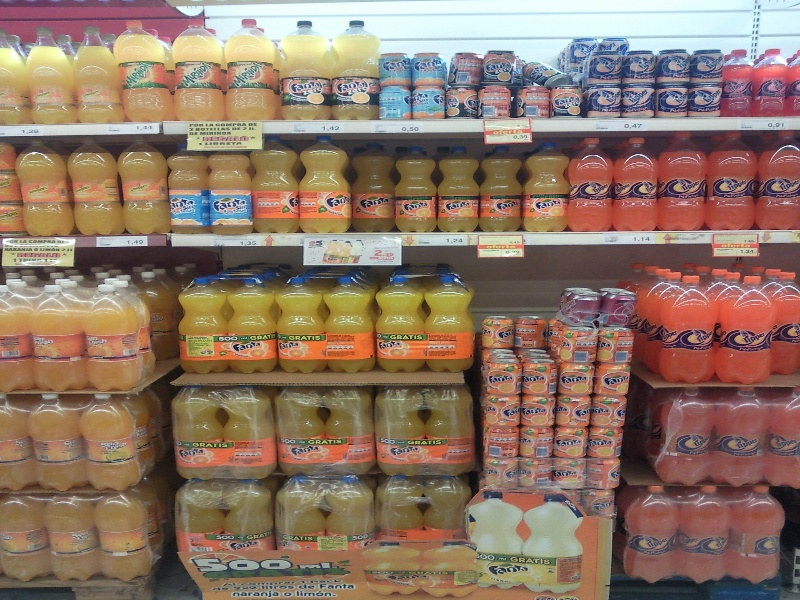lemonade: (86, 284, 145, 393), (82, 390, 143, 491), (274, 19, 335, 119), (717, 277, 774, 384), (116, 18, 173, 122), (222, 17, 280, 119), (65, 137, 124, 235), (17, 137, 73, 240), (118, 133, 175, 233), (227, 276, 283, 374), (298, 134, 353, 233), (372, 272, 426, 371), (30, 393, 84, 492), (172, 15, 223, 119), (322, 280, 378, 374), (249, 135, 300, 234), (332, 18, 381, 119), (657, 133, 708, 230), (423, 275, 475, 369), (667, 278, 712, 385), (609, 135, 658, 232), (707, 132, 756, 229), (277, 278, 326, 375), (178, 279, 228, 374), (478, 145, 524, 234), (569, 139, 612, 232), (525, 142, 569, 231), (437, 145, 479, 231), (396, 148, 438, 232)
